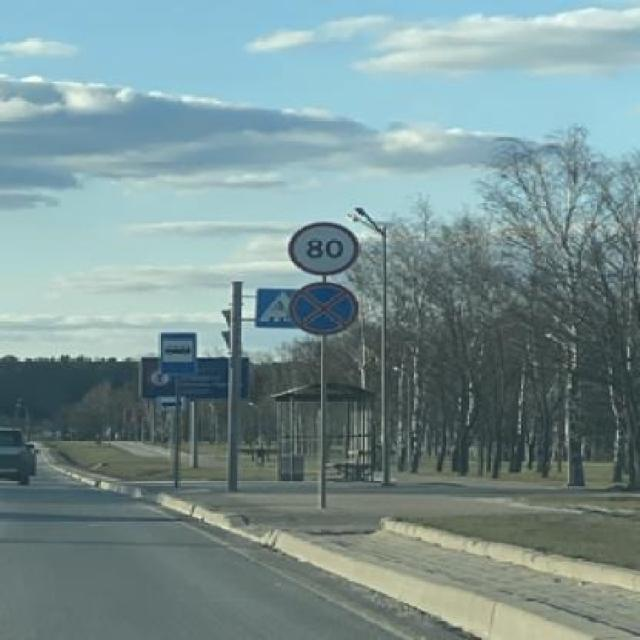forb_speed_over_80: (292, 220, 361, 274)
